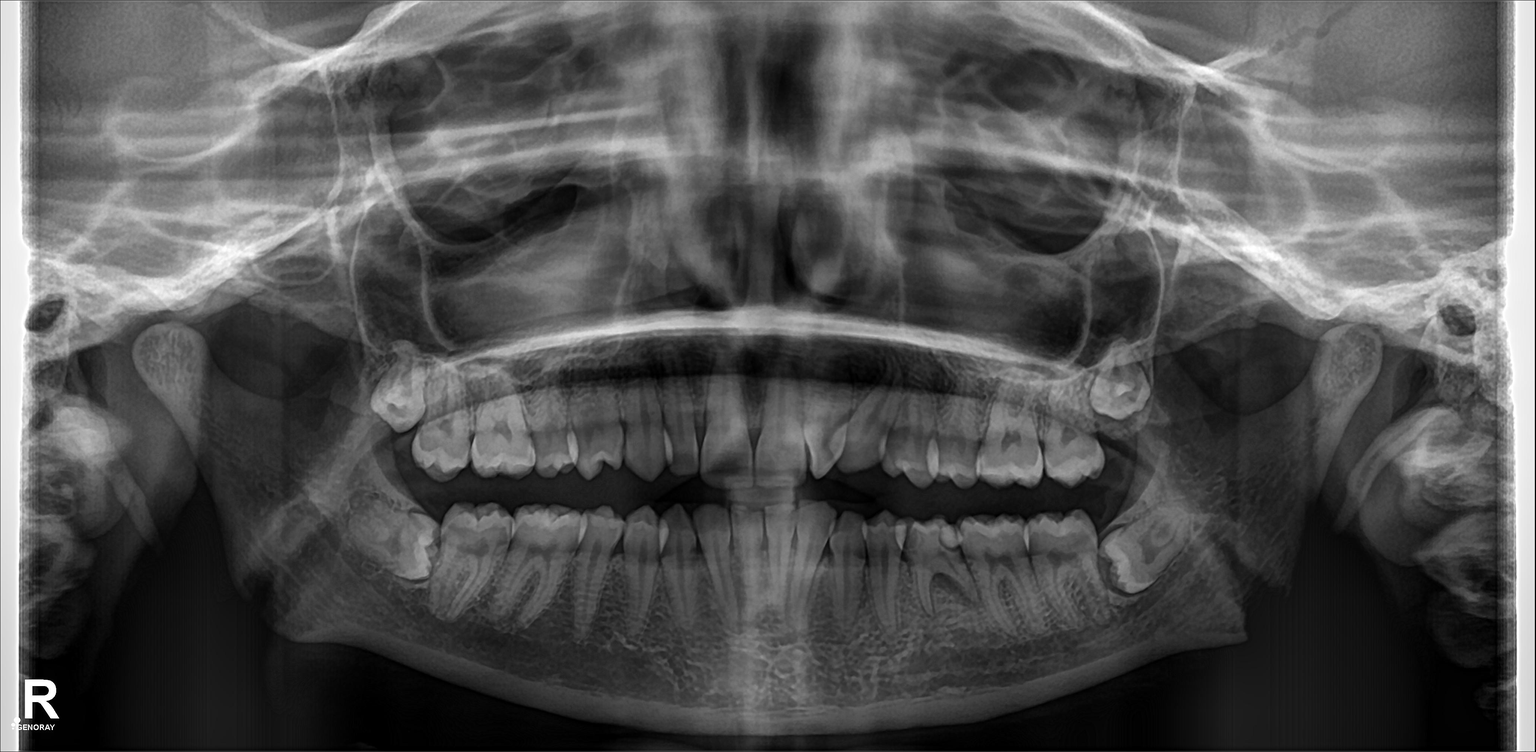Dental Caries: (1138, 534, 1175, 569), (711, 450, 752, 477)
Impacted Third Molar: (1097, 523, 1198, 591), (354, 499, 438, 573), (1088, 357, 1152, 417), (367, 367, 426, 429)
